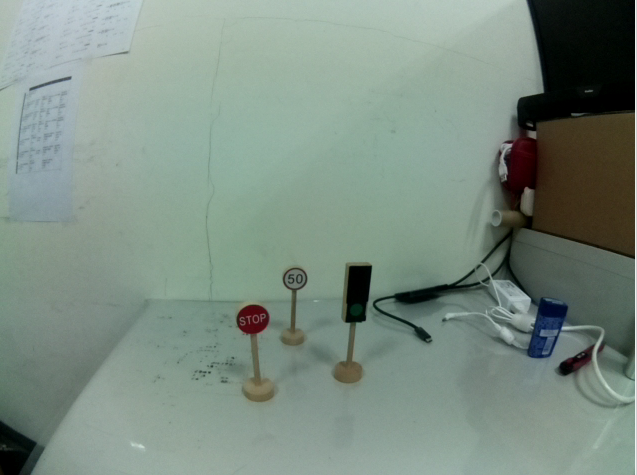Green: (338, 256, 374, 326)
Speed50: (280, 261, 313, 293)
Stop: (236, 301, 270, 335)
